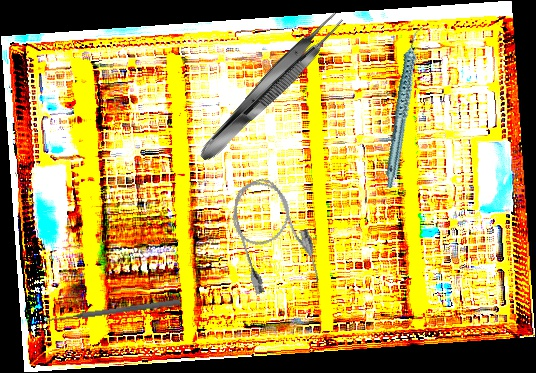Cannula: (221, 169, 325, 303)
Handpiece: (353, 23, 456, 190)
Pusher: (44, 297, 181, 325)
Tissue Forceps: (192, 6, 349, 168)
